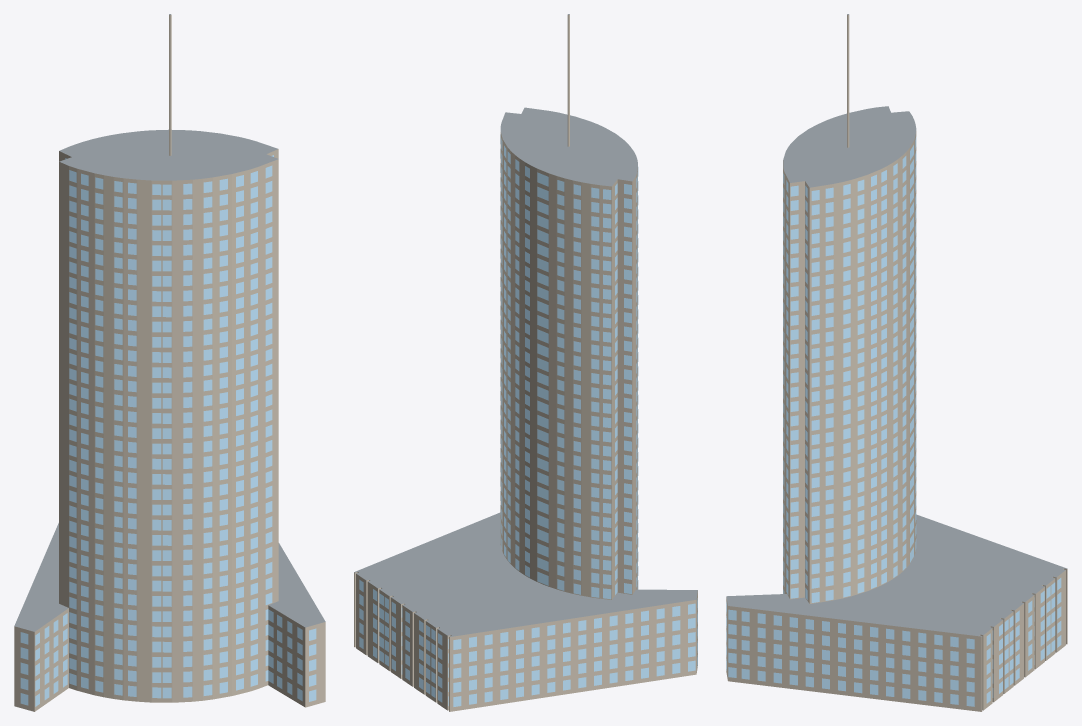
File: detail.glb
The picture shows the model from 3 angles, left to right: view 1: azimuth 30°, elevation 25°; view 2: azimuth 150°, elevation 25°; view 3: azimuth 270°, elevation 25°; orthographic projection. The views are drawn at different scales.
Visible parts, largest first — view 1: stone, window, roof; view 2: stone, window, roof; view 3: stone, window, roof.
Boxes of the visible parts, left/top/right/bottom form: stone: left=14, top=14, right=325, bottom=711; window: left=20, top=155, right=316, bottom=706; roof: left=14, top=14, right=325, bottom=631; stone: left=354, top=14, right=697, bottom=711; window: left=359, top=134, right=697, bottom=706; roof: left=354, top=14, right=697, bottom=636; stone: left=726, top=15, right=1067, bottom=711; window: left=726, top=137, right=1061, bottom=706; roof: left=726, top=14, right=1067, bottom=636.
Bounding box in the file's own units: 83.73 × 174 × 86.18.
